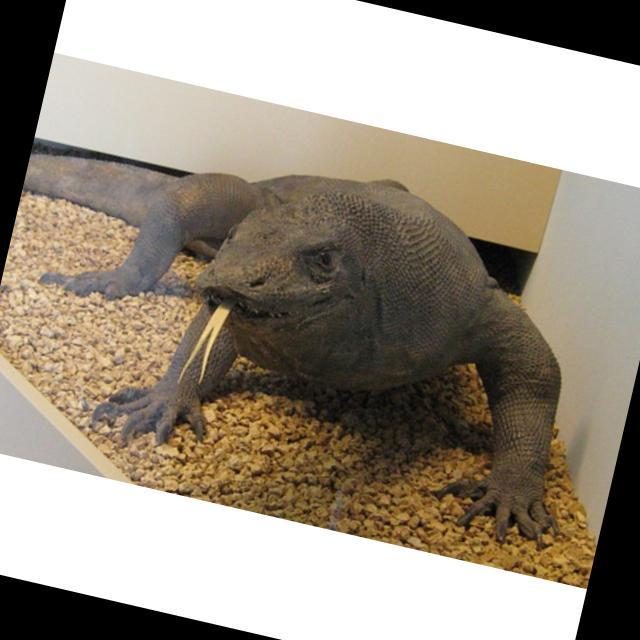KomodoDragon: (0, 94, 639, 559)
